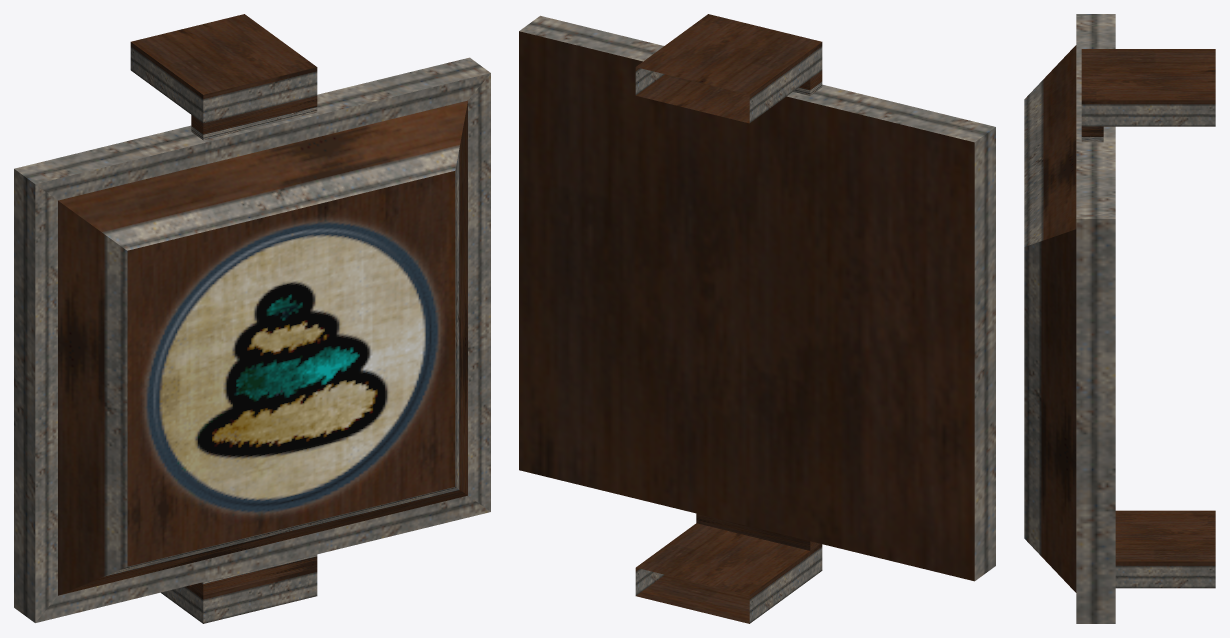
The model's file is placa08.fbx.
3 views of the same model, side by side, from view 1: azimuth 30°, elevation 25°; view 2: azimuth 150°, elevation 25°; view 3: azimuth 270°, elevation 25° (orthographic). The views are drawn at different scales.
Parts seen in each view (by area): view 1: Cube.002; view 2: Cube.002; view 3: Cube.002.
Boxes of the visible parts, bbox=[...] form: Cube.002: bbox=[14, 14, 490, 623]; Cube.002: bbox=[519, 14, 995, 623]; Cube.002: bbox=[1024, 14, 1215, 623].
Size of the model in its own units: 0.8892 by 0.9865 by 0.3503.
